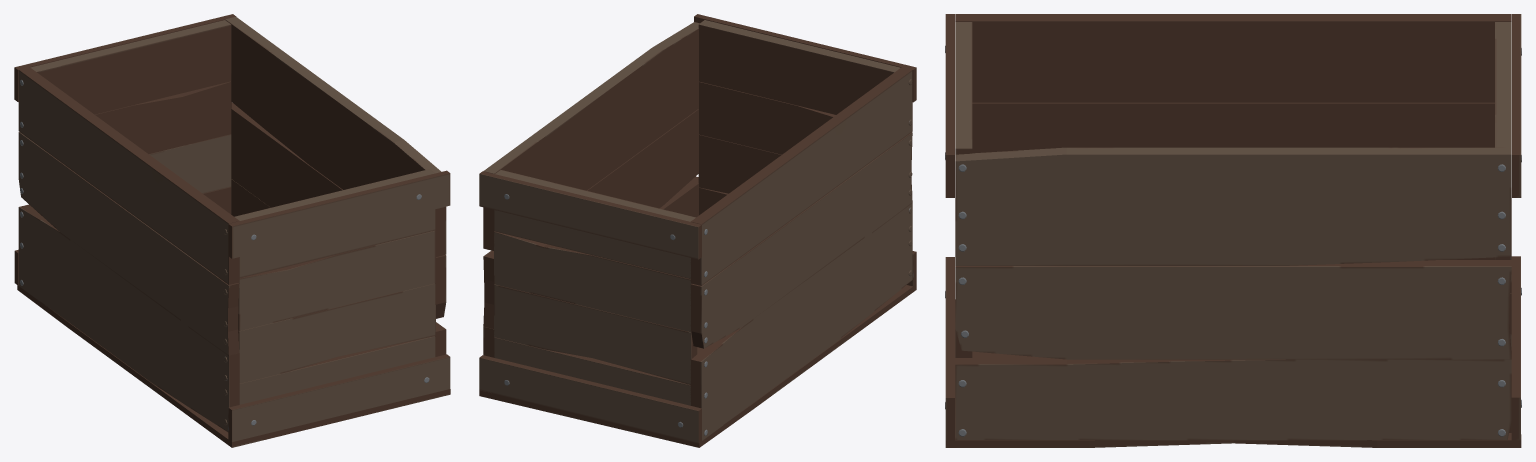
The model's file is Crate_NoLid_Empty.fbx.
3 views of the same model, side by side, from view 1: azimuth 30°, elevation 25°; view 2: azimuth 150°, elevation 25°; view 3: azimuth 270°, elevation 25° (orthographic). The views are drawn at different scales.
Parts seen in each view (by area): view 1: Side_03.006, Side_02.006, Side_01.006, Side_04.006, Crate.006; view 2: Side_03.006, Side_04.006, Side_01.006, Side_02.006, Crate.006; view 3: Side_01.006, Side_03.006, Side_02.006, Side_04.006, Crate.006.
Part boxes in pixels (x1=…): Side_03.006: x1=18, y1=67, x2=239, y2=431; Side_02.006: x1=228, y1=169, x2=450, y2=441; Side_01.006: x1=225, y1=17, x2=446, y2=356; Side_04.006: x1=14, y1=14, x2=236, y2=285; Crate.006: x1=17, y1=285, x2=450, y2=447; Side_03.006: x1=690, y1=67, x2=912, y2=440; Side_04.006: x1=479, y1=170, x2=701, y2=443; Side_01.006: x1=483, y1=22, x2=699, y2=357; Side_02.006: x1=694, y1=14, x2=916, y2=286; Crate.006: x1=479, y1=284, x2=916, y2=447; Side_01.006: x1=955, y1=147, x2=1511, y2=440; Side_03.006: x1=955, y1=14, x2=1511, y2=259; Side_02.006: x1=945, y1=14, x2=972, y2=440; Side_04.006: x1=1495, y1=14, x2=1521, y2=440; Crate.006: x1=945, y1=299, x2=1521, y2=447.
Size of the model in its own units: 71.89 by 69.43 by 124.
